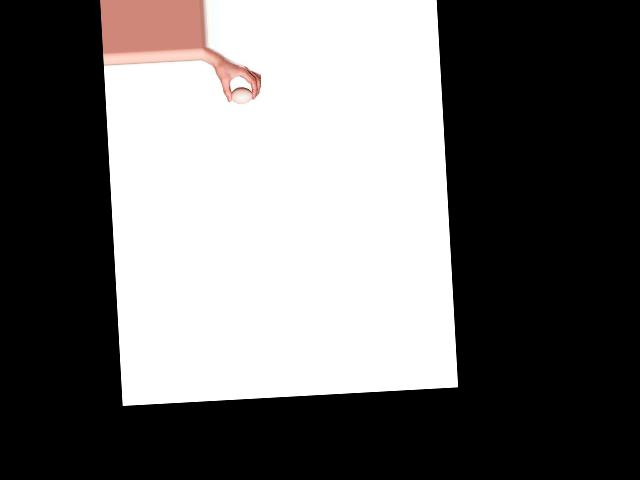egg: (230, 86, 252, 104)
